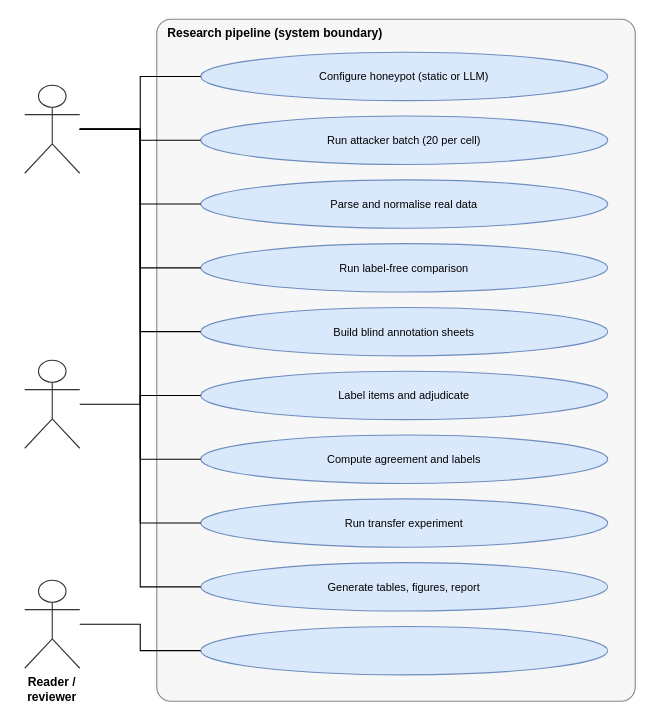
Image size: 655x724. Some labels were removed from this diagram. Each missing label, with the box of its shape:
LLM annotators: (24, 359, 80, 448)
Read results and reproduce: (200, 625, 608, 675)
Researcher: (24, 84, 80, 173)
